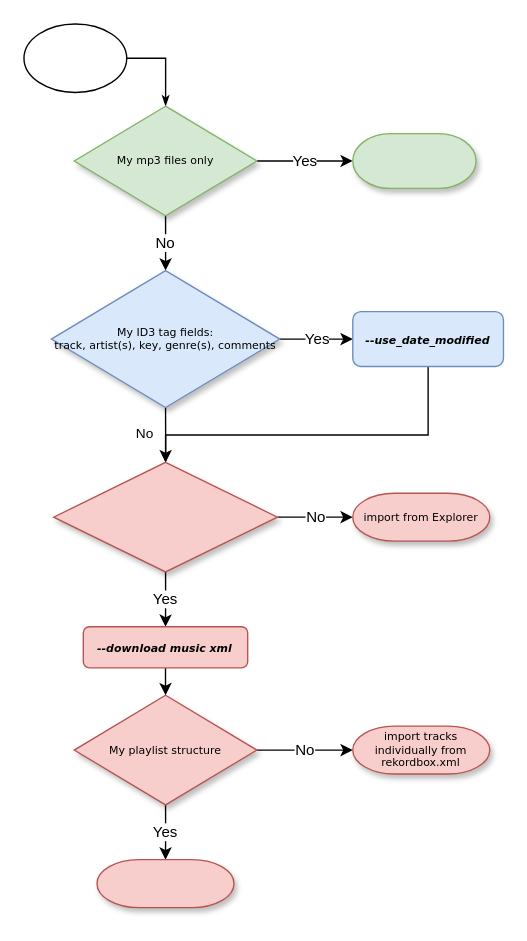
Some shapes in this 527 by 941 pixel diagram are drawn without their labels. Each missing label, with the centre of its shape:
--download music: the point at 415,162
import playlists from rekordbox.xml: the point at 166,885
My rekordbox data: BPM, beatgrid, hot cues, tags: the point at 166,519
Start: the point at 75,57
